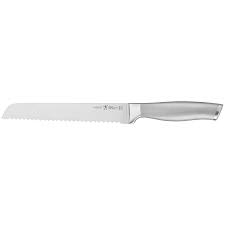knife: (1, 100, 225, 125)
